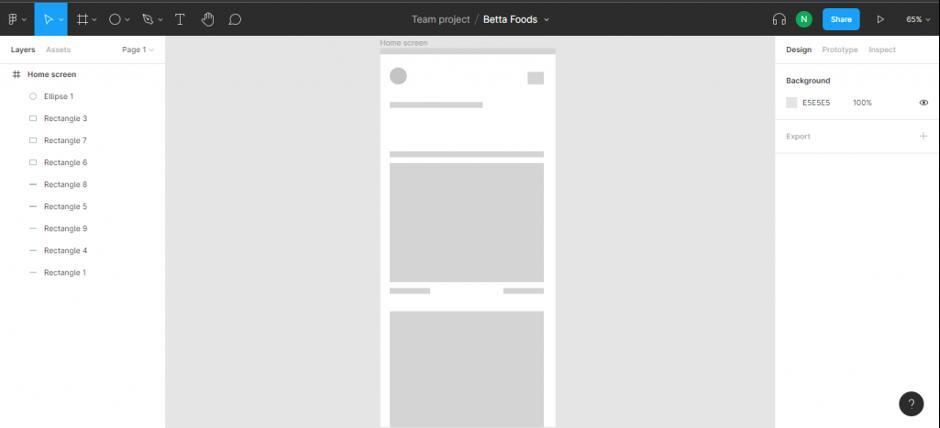button: (824, 10, 861, 31)
icon: (199, 11, 218, 30), (228, 11, 246, 30), (141, 11, 156, 29), (771, 13, 790, 27), (175, 11, 188, 30), (6, 12, 19, 30), (43, 13, 56, 29), (874, 15, 890, 28), (916, 97, 932, 110), (77, 13, 90, 28), (109, 13, 122, 28), (11, 69, 25, 82), (907, 398, 920, 412), (921, 132, 931, 142)
label: (804, 98, 876, 109), (784, 76, 834, 90), (45, 246, 91, 261), (44, 222, 90, 236), (26, 71, 80, 82), (45, 157, 89, 170), (45, 201, 89, 213), (44, 180, 91, 191), (45, 136, 90, 147), (45, 269, 88, 280), (45, 114, 92, 124), (46, 43, 74, 57), (820, 45, 859, 55), (783, 45, 815, 57), (867, 45, 899, 56), (11, 44, 38, 57), (45, 92, 77, 102), (782, 135, 814, 141)
